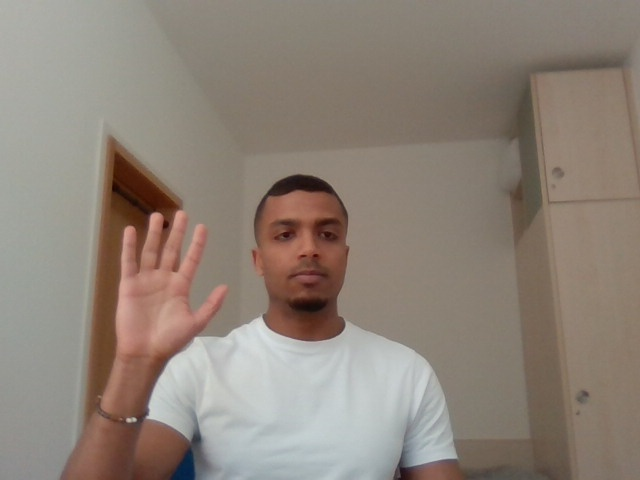hello: (107, 192, 241, 388)
